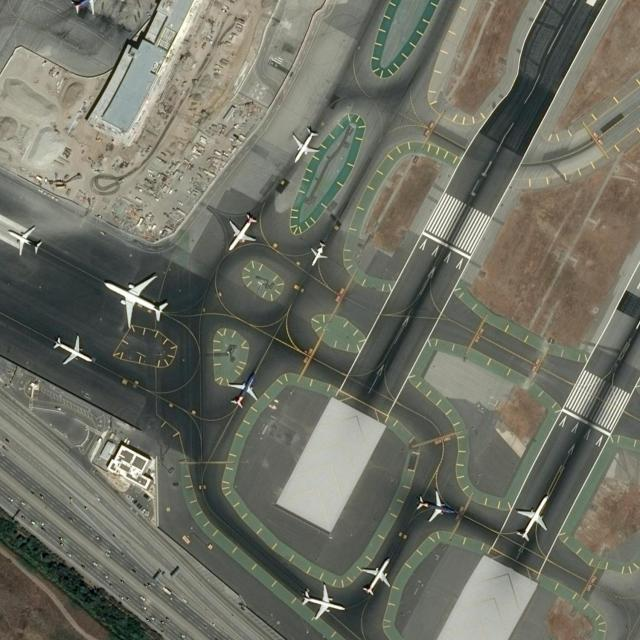Aircraft: (103, 273, 167, 327), (300, 583, 344, 622), (515, 495, 548, 540), (416, 489, 456, 522), (360, 555, 393, 595), (52, 334, 90, 366), (227, 214, 259, 251), (227, 371, 258, 409), (292, 125, 319, 163), (8, 226, 42, 256), (68, 0, 102, 16), (309, 241, 327, 265)
